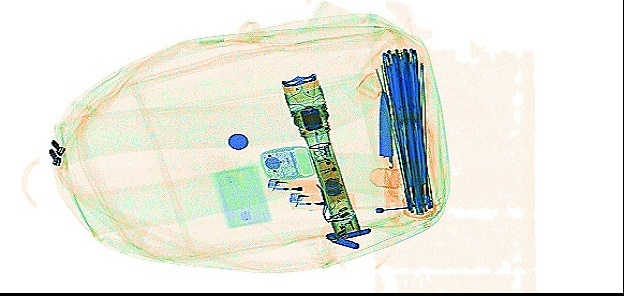lighter: (288, 190, 356, 209), (264, 176, 322, 192)
